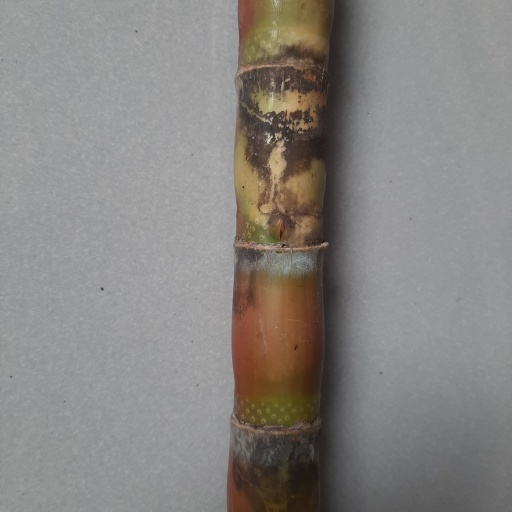Bud: (267, 213, 294, 245)
